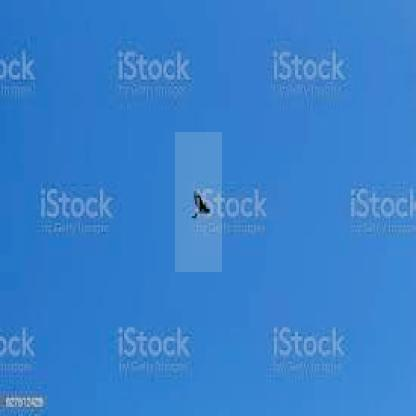bird: (175, 132, 222, 272)
